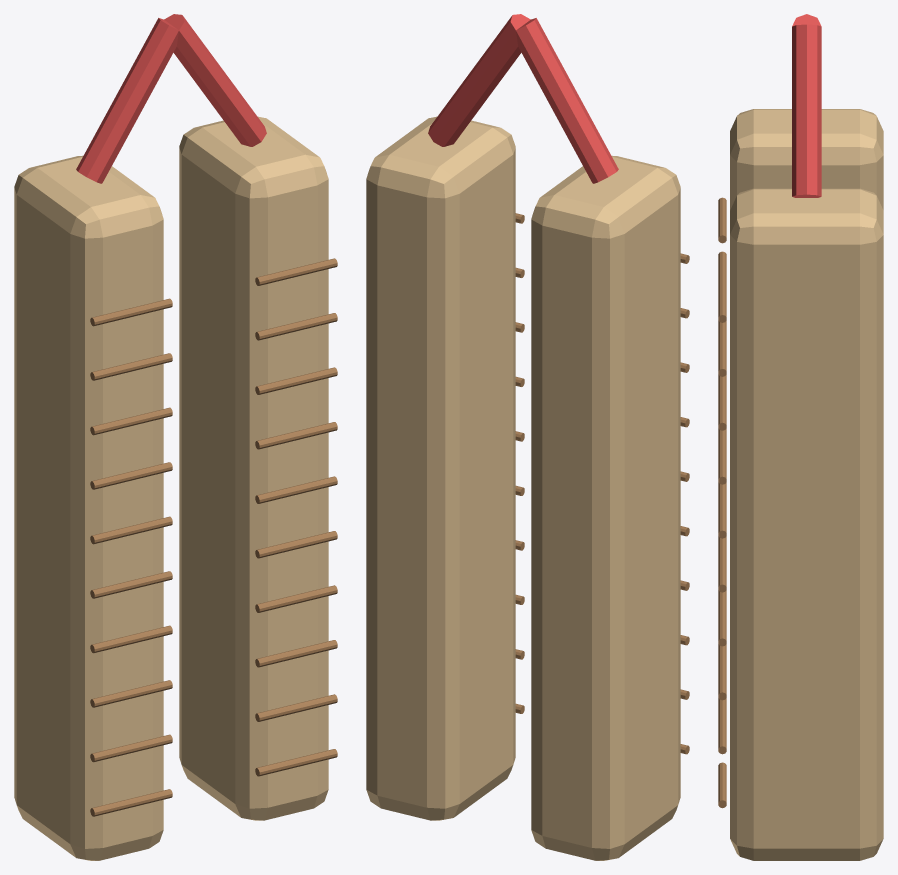
Rendered from kabuki_hyoshigi.glb.
3 views of the same model, side by side, from view 1: azimuth 30°, elevation 25°; view 2: azimuth 150°, elevation 25°; view 3: azimuth 270°, elevation 25° (orthographic).
Parts seen in each view (by area): view 1: Stage hyoshigi solid hardwood striking block, Stage hyoshigi solid hardwood striking block.001, Hyoshigi paired instrument connecting cord_00, Hyoshigi paired instrument connecting cord_01, Hyoshigi wood-grain cut.001, Hyoshigi wood-grain cut.005, Hyoshigi wood-grain cut.013, Hyoshigi wood-grain cut.019, Hyoshigi wood-grain cut.003, Hyoshigi wood-grain cut.007, Hyoshigi wood-grain cut.009, Hyoshigi wood-grain cut.015 (+12 smaller); view 2: Stage hyoshigi solid hardwood striking block, Stage hyoshigi solid hardwood striking block.001, Hyoshigi paired instrument connecting cord_00, Hyoshigi paired instrument connecting cord_01; view 3: Stage hyoshigi solid hardwood striking block.001, Stage hyoshigi solid hardwood striking block, Hyoshigi paired instrument connecting cord_01, Hyoshigi wood-grain cut.017, Hyoshigi wood-grain cut.018, Hyoshigi wood-grain cut.019, Hyoshigi wood-grain cut.013, Hyoshigi wood-grain cut.016, Hyoshigi wood-grain cut.010, Hyoshigi wood-grain cut.015, Hyoshigi wood-grain cut.011, Hyoshigi wood-grain cut.014 (+2 smaller).
Part boxes in pixels (bbox=[...]): Stage hyoshigi solid hardwood striking block: bbox=[14, 155, 163, 860]; Stage hyoshigi solid hardwood striking block.001: bbox=[179, 116, 328, 820]; Hyoshigi paired instrument connecting cord_00: bbox=[76, 18, 178, 183]; Hyoshigi paired instrument connecting cord_01: bbox=[164, 14, 266, 146]; Hyoshigi wood-grain cut.001: bbox=[90, 734, 172, 762]; Hyoshigi wood-grain cut.005: bbox=[90, 516, 172, 544]; Hyoshigi wood-grain cut.013: bbox=[255, 585, 337, 612]; Hyoshigi wood-grain cut.019: bbox=[255, 258, 337, 285]; Hyoshigi wood-grain cut.003: bbox=[90, 625, 172, 653]; Hyoshigi wood-grain cut.007: bbox=[90, 407, 172, 435]; Hyoshigi wood-grain cut.009: bbox=[90, 298, 172, 326]; Hyoshigi wood-grain cut.015: bbox=[255, 476, 337, 503]; Stage hyoshigi solid hardwood striking block: bbox=[531, 155, 680, 860]; Stage hyoshigi solid hardwood striking block.001: bbox=[366, 116, 515, 820]; Hyoshigi paired instrument connecting cord_00: bbox=[516, 18, 618, 183]; Hyoshigi paired instrument connecting cord_01: bbox=[428, 14, 530, 146]; Stage hyoshigi solid hardwood striking block.001: bbox=[730, 188, 883, 860]; Stage hyoshigi solid hardwood striking block: bbox=[730, 109, 883, 210]; Hyoshigi paired instrument connecting cord_01: bbox=[792, 24, 821, 197]; Hyoshigi wood-grain cut.017: bbox=[718, 385, 726, 430]; Hyoshigi wood-grain cut.018: bbox=[718, 331, 726, 376]; Hyoshigi wood-grain cut.019: bbox=[718, 277, 726, 322]; Hyoshigi wood-grain cut.013: bbox=[718, 600, 726, 646]; Hyoshigi wood-grain cut.016: bbox=[718, 439, 726, 484]; Hyoshigi wood-grain cut.010: bbox=[718, 762, 726, 808]; Hyoshigi wood-grain cut.015: bbox=[718, 493, 726, 538]; Hyoshigi wood-grain cut.011: bbox=[718, 708, 726, 754]; Hyoshigi wood-grain cut.014: bbox=[718, 547, 726, 592].
Size of the model in its own units: 0.655 by 1.95 by 0.3703.
